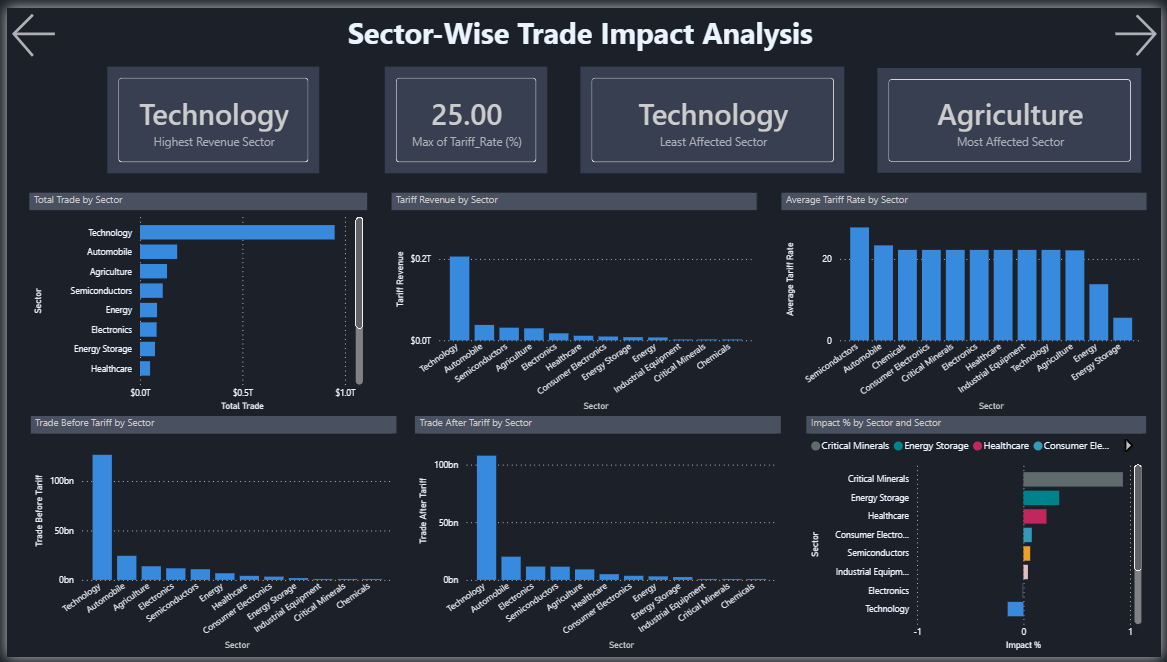

What the dashboard file says about the page in this screenshot:
{"tool":"powerbi","page":{"name":"Page 3","canvas":[1280,720],"ordinal":1},"visuals":[{"type":"cardVisual","fields":{"Data":["Min(trade_total_clean.Sector)"]},"box":[122.3,37,244.7,128],"z":0},{"type":"cardVisual","fields":{"Data":["Min(trade_total_clean.Sector)"]},"box":[949.8,37.7,303,127.7],"z":1000},{"type":"cardVisual","fields":{"Data":["Max(trade_total_clean.Tariff_Rate (%))"]},"box":[413.9,37,189.2,128],"z":2000},{"type":"cardVisual","fields":{"Data":["trade_total_clean.Most Affected Sector"]},"box":[630.2,37,303,128],"z":3000},{"type":"clusteredBarChart","fields":{"Category":["trade_total_clean.Sector"],"Y":["trade_total_clean.Total Trade"]},"box":[25.6,187.8,374.1,264.6],"z":4000},{"type":"clusteredColumnChart","fields":{"Category":["trade_total_clean.Sector"],"Y":["trade_total_clean.Average Tariff Rate"]},"box":[426.7,187.8,405.4,264.6],"z":5000},{"type":"clusteredColumnChart","fields":{"Category":["trade_total_clean.Sector"],"Y":["trade_total_clean.Average Tariff Rate"]},"box":[857.8,187.8,405.4,264.6],"z":6000},{"type":"clusteredColumnChart","fields":{"Category":["trade_total_clean.Sector"],"Y":["trade_total_clean.Trade Before Tariff"]},"box":[25.6,452.4,405.4,264.6],"z":7000},{"type":"clusteredColumnChart","fields":{"Category":["trade_total_clean.Sector"],"Y":["trade_total_clean.Trade After Tariff"]},"box":[452.4,452.4,405.4,264.6],"z":8000},{"type":"barChart","fields":{"Category":["trade_total_clean.Sector"],"Y":["trade_total_clean.Impact %"],"Series":["trade_total_clean.Sector"]},"box":[886.2,452.4,377,264.6],"z":9000}]}

Visuals, with their boxes in screenshot pixels (x1, y1, x2, y2), scaled from the page's 1280x720 canvas onto the 1167x662 screenshot:
cardVisual - Min(trade_total_clean.Sector): 112, 34, 335, 152
cardVisual - Min(trade_total_clean.Sector): 866, 35, 1142, 152
cardVisual - Max(trade_total_clean.Tariff_Rate (%)): 377, 34, 550, 152
cardVisual - trade_total_clean.Most Affected Sector: 575, 34, 851, 152
clusteredBarChart - trade_total_clean.Sector x trade_total_clean.Total Trade: 23, 173, 364, 416
clusteredColumnChart - trade_total_clean.Sector x trade_total_clean.Average Tariff Rate: 389, 173, 759, 416
clusteredColumnChart - trade_total_clean.Sector x trade_total_clean.Average Tariff Rate: 782, 173, 1152, 416
clusteredColumnChart - trade_total_clean.Sector x trade_total_clean.Trade Before Tariff: 23, 416, 393, 659
clusteredColumnChart - trade_total_clean.Sector x trade_total_clean.Trade After Tariff: 412, 416, 782, 659
barChart - trade_total_clean.Sector x trade_total_clean.Impact %: 808, 416, 1152, 659
